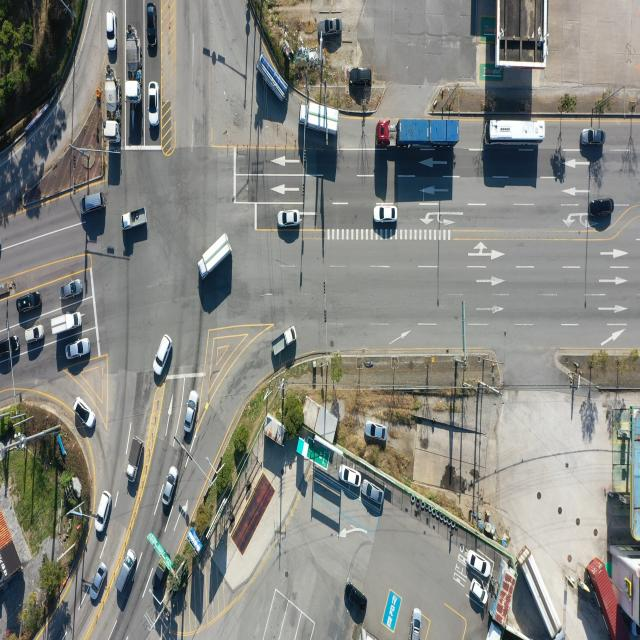car: (116, 548, 136, 594), (154, 334, 172, 376), (74, 398, 96, 432), (95, 488, 112, 532), (344, 580, 366, 614), (91, 562, 108, 602), (153, 550, 170, 589), (80, 192, 105, 218), (163, 466, 179, 506), (183, 392, 197, 434), (470, 552, 491, 577), (66, 340, 90, 361), (362, 482, 383, 506), (470, 578, 488, 606), (148, 82, 159, 126), (17, 292, 41, 312), (588, 199, 614, 217), (341, 464, 362, 486), (147, 4, 157, 50), (582, 128, 606, 147), (106, 11, 117, 52), (364, 422, 386, 442), (61, 280, 84, 299), (350, 66, 372, 85), (0, 336, 19, 358), (375, 206, 398, 223), (412, 608, 424, 640), (278, 210, 300, 227), (25, 324, 45, 342), (322, 18, 341, 36)
large_bus: (487, 120, 546, 145)
large_truck: (374, 119, 459, 152)
medium_truck: (522, 548, 564, 638), (198, 236, 232, 284), (256, 54, 288, 103), (298, 106, 338, 138), (104, 76, 121, 142), (126, 32, 142, 99)
small_truck: (51, 313, 82, 339), (272, 328, 297, 360), (128, 439, 146, 479), (122, 207, 148, 231)
